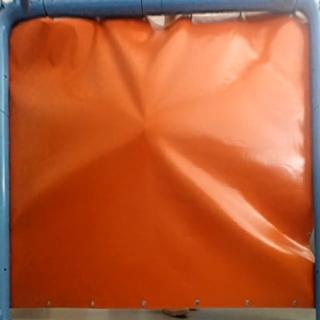Hit-hRxx: (138, 124, 152, 136)
